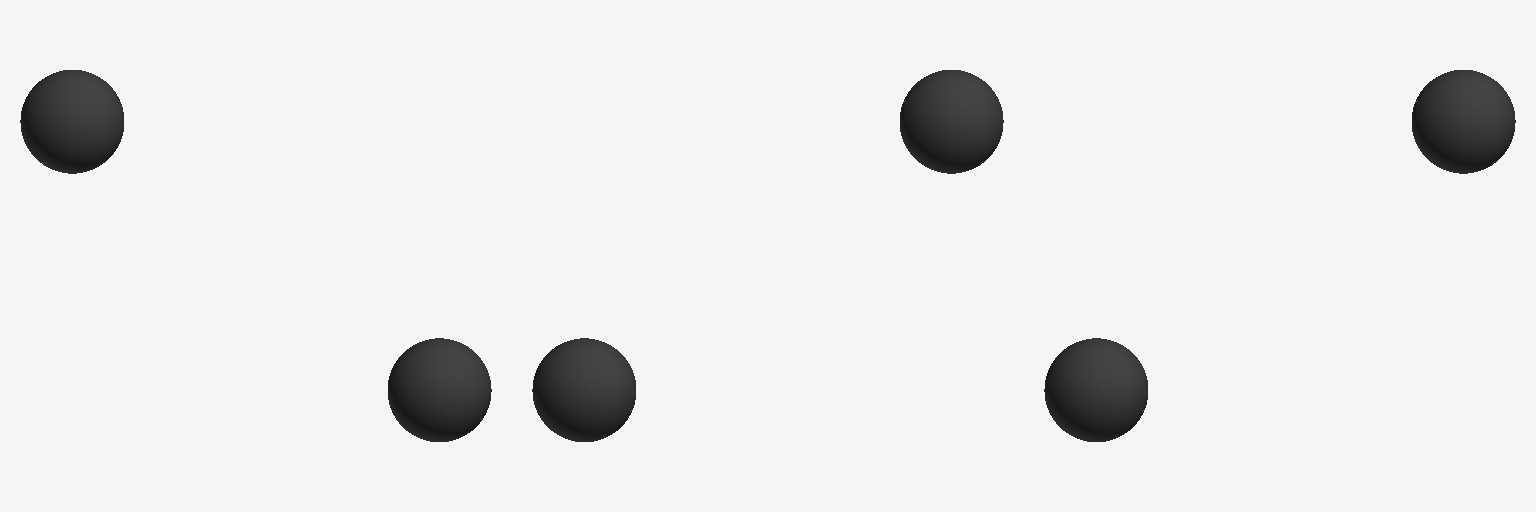
URDF robot description (bolt):
<?xml version="1.0" ?>
<!-- =================================================================================== -->
<!-- |    This document was autogenerated by xacro from /usr/local/lib/python3.9/site-packages/robot_properties_bolt/resources/xacro/bolt.urdf.xacro | -->
<!-- |    EDITING THIS FILE BY HAND IS NOT RECOMMENDED                                 | -->
<!-- =================================================================================== -->
<robot name="bolt" xmlns:controller="http://playerstage.sourceforge.net/gazebo/xmlschema/#controller" xmlns:interface="http://playerstage.sourceforge.net/gazebo/xmlschema/#interface" xmlns:sensor="http://playerstage.sourceforge.net/gazebo/xmlschema/#sensor" xmlns:xacro="http://playerstage.sourceforge.net/gazebo/xmlschema/#interface">
  <!-- This file is based on: https://atlas.is.localnet/confluence/display/AMDW/Quadruped+URDF+Files -->
  <link name="base_link">
    <!-- BASE LINK INERTIAL -->
    <inertial>
      <origin rpy="0 0 0" xyz="0 0 0"/>
      <mass value="0.61436936"/>
      <!-- The base is extremely symmetrical. -->
      <inertia ixx="0.00578574" ixy="0.0" ixz="0.0" iyy="0.01938108" iyz="0.0" izz="0.02476124"/>
    </inertial>
    <!-- BASE LINK VISUAL -->
    <visual>
        <material name="Red">
          <color rgba="1.0 0.3 0.3 1.0"/>
        </material>
      <origin rpy="0 0 0" xyz="0 0 0"/>
      <geometry>
        <mesh filename="package://example-robot-data/robots/bolt_description/meshes/stl/bolt_body.stl"/>
      </geometry>
    </visual>
    <!-- BASE LINK COLLISION -->
    <collision>
      <origin rpy="0 0 0" xyz="0 0 0"/>
      <geometry>
        <mesh filename="package://example-robot-data/robots/bolt_description/meshes/stl/bolt_body.stl"/>
      </geometry>
      <material name="grey">
        <color rgba="0.8 0.8 0.8 1.0"/>
      </material>
    </collision>
    <!-- Bullet specific paramters -->
    <contact>
      <lateral_friction value="1.0"/>
      <restitution value="0.5"/>
    </contact>
  </link>
  <!-- END BASE LINK -->
  <!--xacro:property name="base_2_HAA_x" value="${2.45656 * 0.001}" />
  <xacro:property name="base_2_HAA_y" value="${63.6 * 0.001}" />
  <xacro:property name="base_2_HAA_z" value="${33.0809 * 0.001}" /-->
  <joint name="FL_HAA" type="revolute">
    <parent link="base_link"/>
    <child link="FL_SHOULDER"/>
    <limit effort="1000" lower="-10" upper="10" velocity="1000"/>
    <!-- joints rotates around the x-axis -->
    <axis xyz="1 0 0"/>
    <origin rpy="0 0 0" xyz="0.0 0.0636 0"/>
    <!--xacro:unless value="${is_right}">
        <origin xyz="${base_2_HAA_x} ${base_2_HAA_y + 0.0007888} ${-base_2_HAA_z}" rpy="0 0 0" />
      </xacro:unless>
      <xacro:if value="${is_right}">
        <origin xyz="${base_2_HAA_x} ${-base_2_HAA_y + 0.0007888} ${-base_2_HAA_z}" rpy="0 0 0" />
      </xacro:if-->
    <!-- pybullet simulation parameters -->
    <dynamics damping="0.0" friction="0.0"/>
  </joint>
  <link name="FL_SHOULDER">
    <!-- TODO: Update inertias and add visuals for link. -->
    <!-- create a dummy shoulder link to join the two joints -->
    <inertial>
      <!-- Left upper leg inertia -->
      <mass value="0.14004265"/>
      <origin rpy="0 0 0" xyz="0.01708256 -0.00446892 -0.01095830"/>
      <inertia ixx="0.00007443" ixy="0.00000148" ixz="0.00002154" iyy="0.00013847" iyz="-0.00001096" izz="0.00009002"/>
    </inertial>
    <!-- HIP LEG LINK VISUAL -->
    <visual>
      <origin rpy="0 0 0" xyz="0 0 0"/>
      <geometry>
        <mesh filename="package://example-robot-data/robots/bolt_description/meshes/stl/bolt_hip_fe_left_side.stl"/>
      </geometry>
      <material name="Black">
          <color rgba="0.27 0.27 0.27 1.0"/>
        </material>
    </visual>
    <!-- UPPER LEG LINK COLLISION -->
    <collision>
      <origin rpy="0 0 0" xyz="0 0 0"/>
      <geometry>
        <mesh filename="package://example-robot-data/robots/bolt_description/meshes/stl/bolt_hip_fe_left_side.stl"/>
      </geometry>
      <material name="grey">
        <color rgba="0.8 0.8 0.8 1.0"/>
      </material>
    </collision>
    <!-- Bullet specific paramters -->
    <contact>
      <lateral_friction value="1.0"/>
      <restitution value="0.5"/>
    </contact>
  </link>
  <joint name="FL_HFE" type="revolute">
    <parent link="FL_SHOULDER"/>
    <child link="FL_UPPER_LEG"/>
    <limit effort="1000" lower="-10" upper="10" velocity="1000"/>
    <!-- joints rotates around the y-axis -->
    <axis xyz="0 1 0"/>
    <origin rpy="0 0 0" xyz="0 0.0145 -0.0386"/>
    <!-- pybullet simulation parameters -->
    <dynamics damping="0.0" friction="0.0"/>
  </joint>
  <link name="FL_UPPER_LEG">
    <!-- Left upper leg inertia -->
    <inertial>
      <origin rpy="0 0 0" xyz="0.00001377 0.01935853 -0.11870700"/>
      <mass value="0.14853845"/>
      <inertia ixx="0.00041107" ixy="0.00000000" ixz="0.00000009" iyy="0.00041193" iyz="-0.00004671" izz="0.00003024"/>
    </inertial>
    <!-- UPPER LEG LINK VISUAL -->
    <visual>
      <origin rpy="0 0 0" xyz="0 0 0"/>
      <geometry>
        <mesh filename="package://example-robot-data/robots/bolt_description/meshes/stl/upper_leg_200mm_left_side.stl"/>
      </geometry>
      <material name="Red"/>
    </visual>
    <!-- UPPER LEG LINK COLLISION -->
    <collision>
      <origin rpy="0 0 0" xyz="0 0 0"/>
      <geometry>
        <mesh filename="package://example-robot-data/robots/bolt_description/meshes/stl/upper_leg_200mm_left_side.stl"/>
      </geometry>
      <material name="grey">
        <color rgba="0.8 0.8 0.8 1.0"/>
      </material>
    </collision>
    <!-- Bullet specific paramters -->
    <contact>
      <lateral_friction value="1.0"/>
      <restitution value="0.5"/>
    </contact>
  </link>
  <!-- END UPPER LEG LINK -->
  <!-- KFE: Joint between the upper leg and the lower leg -->
  <joint name="FL_KFE" type="revolute">
    <parent link="FL_UPPER_LEG"/>
    <child link="FL_LOWER_LEG"/>
    <limit effort="1000" lower="-10" upper="10" velocity="1000"/>
    <!-- joints rotates around the y-axis -->
    <axis xyz="0 1 0"/>
    <origin rpy="0 0 0" xyz="0 0.0374 -0.2"/>
    <!-- pybullet simulation parameters -->
    <dynamics damping="0.0" friction="0.0"/>
  </joint>
  <link name="FL_LOWER_LEG">
    <!-- Left lower leg inertia -->
    <inertial>
      <origin rpy="0 0 0" xyz="0.0 0.00836718 -0.11591877"/>
      <mass value="0.03117243"/>
      <inertia ixx="0.00011487" ixy="0.00000000" ixz="0.00000000" iyy="0.00011556" iyz="-0.00000190" izz="0.00000220"/>
    </inertial>
    <!-- LOWER LEG LINK VISUAL -->
    <visual>
      <origin rpy="0 0 0" xyz="0 0 0"/>
      <geometry>
        <mesh filename="package://example-robot-data/robots/bolt_description/meshes/stl/lower_leg_200mm_left_side.stl"/>
      </geometry>
      <material name="Black"/>
    </visual>
    <!-- LOWER LEG LINK COLLISION -->
    <collision>
      <origin rpy="0 0 0" xyz="0 0 0"/>
      <geometry>
        <mesh filename="package://example-robot-data/robots/bolt_description/meshes/stl/lower_leg_200mm_left_side.stl"/>
      </geometry>
      <material name="grey">
        <color rgba="0.8 0.8 0.8 1.0"/>
      </material>
    </collision>
    <!-- Bullet specific paramters -->
    <contact>
      <lateral_friction value="1.0"/>
      <restitution value="0.5"/>
    </contact>
  </link>
  <!-- END LOWER LEG LINK -->
  <!-- KFE: Joint between the upper leg and the lower leg -->
  <joint name="FL_ANKLE" type="fixed">
    <parent link="FL_LOWER_LEG"/>
    <child link="FL_FOOT"/>
    <origin rpy="0 0 0" xyz="0 0.008 -0.2"/>
    <!-- Limits (usefull?) -->
    <limit effort="1000" lower="-10" upper="10" velocity="1000"/>
    <!-- pybullet simulation parameters -->
    <dynamics damping="0.0" friction="0.0"/>
  </joint>
  <link name="FL_FOOT">
    <!-- FOOT INERTIAL -->
    <!-- This link is symmetrical left or right -->
    <inertial>
      <origin rpy="0 0 0" xyz="0 0 0.00035767"/>
      <mass value="0.00000000"/>
      <inertia ixx="0.00000057" ixy="0.0" ixz="0.0" iyy="0.00000084" iyz="0.0" izz="0.00000053"/>
    </inertial>
    <!-- FOOT VISUAL -->
    <visual>
      <origin rpy="0 0 0" xyz="0 0 0"/>
      <geometry>
        <mesh filename="package://example-robot-data/robots/bolt_description/meshes/stl/bolt_foot.stl"/>
      </geometry>
      <material name="Black"/>
    </visual>
    <!-- FOOT COLLISION -->
    <collision>
      <origin rpy="0 0 0" xyz="0 0 0"/>
      <geometry>
        <mesh filename="package://example-robot-data/robots/bolt_description/meshes/stl/bolt_foot.stl"/>
      </geometry>
      <material name="grey">
        <color rgba="0.8 0.8 0.8 1.0"/>
      </material>
    </collision>
    <!-- Bullet specific paramters -->
    <contact>
      <lateral_friction value="4.0"/>
      <restitution value="0.0"/>
    </contact>
  </link>
  <!-- END LOWER LEG LINK -->
  <joint name="FR_HAA" type="revolute">
    <parent link="base_link"/>
    <child link="FR_SHOULDER"/>
    <limit effort="1000" lower="-10" upper="10" velocity="1000"/>
    <!-- joints rotates around the x-axis -->
    <axis xyz="1 0 0"/>
    <origin rpy="0 0 0" xyz="0.0 -0.0636 0"/>
    <!--xacro:unless value="${is_right}">
        <origin xyz="${base_2_HAA_x} ${base_2_HAA_y + 0.0007888} ${-base_2_HAA_z}" rpy="0 0 0" />
      </xacro:unless>
      <xacro:if value="${is_right}">
        <origin xyz="${base_2_HAA_x} ${-base_2_HAA_y + 0.0007888} ${-base_2_HAA_z}" rpy="0 0 0" />
      </xacro:if-->
    <!-- pybullet simulation parameters -->
    <dynamics damping="0.0" friction="0.0"/>
  </joint>
  <link name="FR_SHOULDER">
    <!-- TODO: Update inertias and add visuals for link. -->
    <!-- create a dummy shoulder link to join the two joints -->
    <inertial>
      <!-- Right upper leg inertia -->
      <mass value="0.14004412"/>
      <origin rpy="0 0 0" xyz="0.01708233 0.00447099 -0.01095846"/>
      <inertia ixx="0.00007442" ixy="-0.00000148" ixz="0.00002154" iyy="0.00013848" iyz="0.00001095" izz="0.00009001"/>
    </inertial>
    <!-- HIP LEG LINK VISUAL -->
    <visual>
      <origin rpy="0 0 0" xyz="0 0 0"/>
      <geometry>
        <mesh filename="package://example-robot-data/robots/bolt_description/meshes/stl/bolt_hip_fe_right_side.stl"/>
      </geometry>
      <material name="Black"/>
    </visual>
    <!-- UPPER LEG LINK COLLISION -->
    <collision>
      <origin rpy="0 0 0" xyz="0 0 0"/>
      <geometry>
        <mesh filename="package://example-robot-data/robots/bolt_description/meshes/stl/bolt_hip_fe_right_side.stl"/>
      </geometry>
      <material name="grey">
        <color rgba="0.8 0.8 0.8 1.0"/>
      </material>
    </collision>
    <!-- Bullet specific paramters -->
    <contact>
      <lateral_friction value="1.0"/>
      <restitution value="0.5"/>
    </contact>
  </link>
  <joint name="FR_HFE" type="revolute">
    <parent link="FR_SHOULDER"/>
    <child link="FR_UPPER_LEG"/>
    <limit effort="1000" lower="-10" upper="10" velocity="1000"/>
    <!-- joints rotates around the y-axis -->
    <axis xyz="0 1 0"/>
    <origin rpy="0 0 0" xyz="0 -0.0145 -0.0386"/>
    <!-- pybullet simulation parameters -->
    <dynamics damping="0.0" friction="0.0"/>
  </joint>
  <link name="FR_UPPER_LEG">
    <!-- Right upper leg inertia -->
    <inertial>
      <origin rpy="0 0 0" xyz="-0.00001377 -0.01935853 -0.11870700"/>
      <mass value="0.14853845"/>
      <inertia ixx="0.00041107" ixy="0.00000000" ixz="-0.00000009" iyy="0.00041193" iyz="0.00004671" izz="0.00003024"/>
    </inertial>
    <!-- UPPER LEG LINK VISUAL -->
    <visual>
      <origin rpy="0 0 0" xyz="0 0 0"/>
      <geometry>
        <mesh filename="package://example-robot-data/robots/bolt_description/meshes/stl/upper_leg_200mm_right_side.stl"/>
      </geometry>
      <material name="Red"/>
    </visual>
    <!-- UPPER LEG LINK COLLISION -->
    <collision>
      <origin rpy="0 0 0" xyz="0 0 0"/>
      <geometry>
        <mesh filename="package://example-robot-data/robots/bolt_description/meshes/stl/upper_leg_200mm_right_side.stl"/>
      </geometry>
      <material name="grey">
        <color rgba="0.8 0.8 0.8 1.0"/>
      </material>
    </collision>
    <!-- Bullet specific paramters -->
    <contact>
      <lateral_friction value="1.0"/>
      <restitution value="0.5"/>
    </contact>
  </link>
  <!-- END UPPER LEG LINK -->
  <!-- KFE: Joint between the upper leg and the lower leg -->
  <joint name="FR_KFE" type="revolute">
    <parent link="FR_UPPER_LEG"/>
    <child link="FR_LOWER_LEG"/>
    <limit effort="1000" lower="-10" upper="10" velocity="1000"/>
    <!-- joints rotates around the y-axis -->
    <axis xyz="0 1 0"/>
    <origin rpy="0 0 0" xyz="0 -0.0374 -0.2"/>
    <!-- pybullet simulation parameters -->
    <dynamics damping="0.0" friction="0.0"/>
  </joint>
  <link name="FR_LOWER_LEG">
    <!-- Right lower leg inertia -->
    <inertial>
      <origin rpy="0 0 0" xyz="0.0 -0.00836718 -0.11591877"/>
      <mass value="0.03117243"/>
      <inertia ixx="0.00011487" ixy="0.00000000" ixz="0.00000000" iyy="0.00011556" iyz="0.00000190" izz="0.00000220"/>
    </inertial>
    <!-- LOWER LEG LINK VISUAL -->
    <visual>
      <origin rpy="0 0 0" xyz="0 0 0"/>
      <geometry>
        <mesh filename="package://example-robot-data/robots/bolt_description/meshes/stl/lower_leg_200mm_right_side.stl"/>
      </geometry>
      <material name="Black"/>
    </visual>
    <!-- LOWER LEG LINK COLLISION -->
    <collision>
      <origin rpy="0 0 0" xyz="0 0 0"/>
      <geometry>
        <mesh filename="package://example-robot-data/robots/bolt_description/meshes/stl/lower_leg_200mm_right_side.stl"/>
      </geometry>
      <material name="grey">
        <color rgba="0.8 0.8 0.8 1.0"/>
      </material>
    </collision>
    <!-- Bullet specific paramters -->
    <contact>
      <lateral_friction value="1.0"/>
      <restitution value="0.5"/>
    </contact>
  </link>
  <!-- END LOWER LEG LINK -->
  <!-- KFE: Joint between the upper leg and the lower leg -->
  <joint name="FR_ANKLE" type="fixed">
    <parent link="FR_LOWER_LEG"/>
    <child link="FR_FOOT"/>
    <origin rpy="0 0 0" xyz="0 -0.008 -0.2"/>
    <!-- Limits (usefull?) -->
    <limit effort="1000" lower="-10" upper="10" velocity="1000"/>
    <!-- pybullet simulation parameters -->
    <dynamics damping="0.0" friction="0.0"/>
  </joint>
  <link name="FR_FOOT">
    <!-- FOOT INERTIAL -->
    <!-- This link is symmetrical left or right -->
    <inertial>
      <origin rpy="0 0 0" xyz="0 0 0.00035767"/>
      <mass value="0.00000000"/>
      <inertia ixx="0.00000057" ixy="0.0" ixz="0.0" iyy="0.00000084" iyz="0.0" izz="0.00000053"/>
    </inertial>
    <!-- FOOT VISUAL -->
    <visual>
      <origin rpy="0 0 0" xyz="0 0 0"/>
      <geometry>
        <mesh filename="package://example-robot-data/robots/bolt_description/meshes/stl/bolt_foot.stl"/>
      </geometry>
      <material name="Black"/>
    </visual>
    <!-- FOOT COLLISION -->
    <collision>
      <origin rpy="0 0 0" xyz="0 0 0"/>
      <geometry>
        <mesh filename="package://example-robot-data/robots/bolt_description/meshes/stl/bolt_foot.stl"/>
      </geometry>
      <material name="grey">
        <color rgba="0.8 0.8 0.8 1.0"/>
      </material>
    </collision>
    <!-- Bullet specific paramters -->
    <contact>
      <lateral_friction value="4.0"/>
      <restitution value="0.0"/>
    </contact>
  </link>
  <!-- END LOWER LEG LINK -->
</robot>

--- What the picture shows (computed from the rendered views, not written in the file) ---
Views: 3 orthographic renders of the robot side by side, from view 1: azimuth 30°, elevation 25°; view 2: azimuth 150°, elevation 25°; view 3: azimuth 330°, elevation 25°.
Robot: bolt — 9 links, 8 joints (6 revolute, 2 fixed); root link base_link; default pose: every joint at zero.
Visible links, largest first — view 1: FL_FOOT, FR_FOOT; view 2: FL_FOOT, FR_FOOT; view 3: FL_FOOT, FR_FOOT.
Link boxes in pixels (x1,y1,x2,y2): FL_FOOT: (20, 70, 123, 173); FR_FOOT: (388, 338, 491, 441); FL_FOOT: (532, 338, 635, 441); FR_FOOT: (900, 70, 1003, 173); FL_FOOT: (1412, 70, 1515, 173); FR_FOOT: (1044, 338, 1147, 441).
Size in the robot's own frame: 0.035 by 0.282 by 0.035 metres.
Meshes: 8 distinct files referenced, 2 mesh visuals loaded (1 binary STL); not drawn: 7 (reference not matched to a file when rendering).